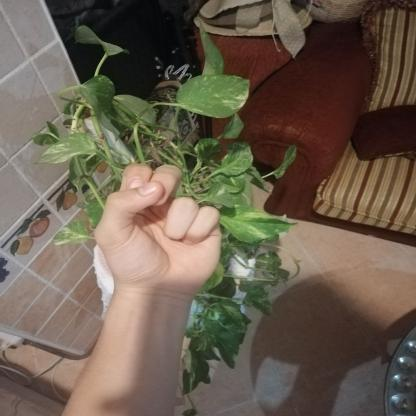QAAF: (81, 154, 239, 308)
